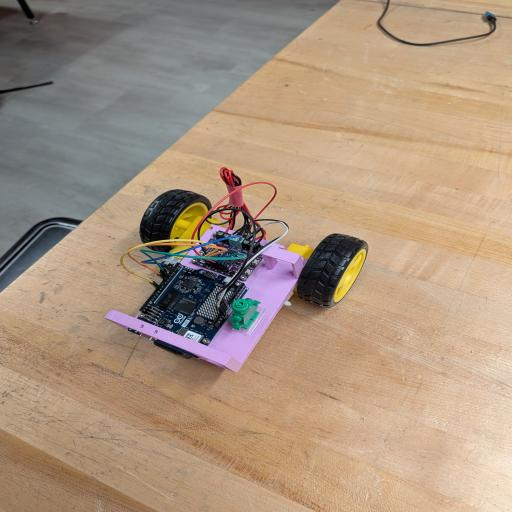Minifig: (229, 298, 260, 330)
